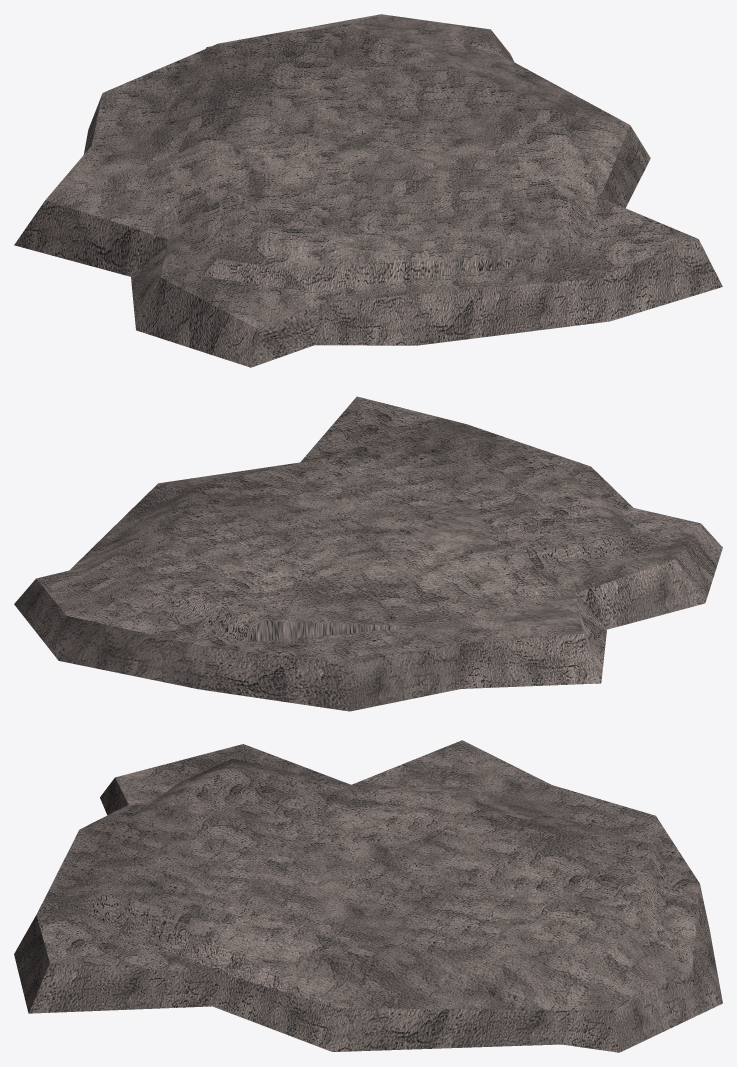
The model's file is FlatRock4.FBX.
3 views of the same model, one above another, from view 1: azimuth 30°, elevation 25°; view 2: azimuth 150°, elevation 25°; view 3: azimuth 270°, elevation 25° (orthographic). The views are drawn at different scales.
Parts seen in each view (by area): view 1: FlatRock4; view 2: FlatRock4; view 3: FlatRock4.
Part boxes in pixels (box(x1,y1,x2,y2)): FlatRock4: box(14, 14, 722, 367); FlatRock4: box(14, 396, 722, 711); FlatRock4: box(14, 740, 722, 1052).
Bounding box in the file's own units: 136 × 14.89 × 145.
Materials: 1 (1 with a texture image).
